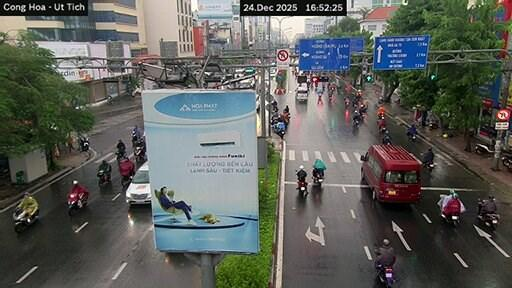motorbike: (13, 207, 38, 232), (67, 190, 87, 215), (376, 263, 394, 287), (477, 212, 499, 230), (477, 213, 499, 230), (475, 140, 495, 154), (441, 212, 459, 226), (97, 170, 111, 188), (134, 145, 146, 164), (79, 135, 90, 152), (296, 180, 307, 196), (312, 171, 324, 185), (115, 149, 126, 164), (121, 176, 133, 188), (501, 154, 511, 166), (422, 161, 433, 171), (382, 135, 391, 144), (408, 133, 416, 141), (353, 119, 359, 127), (329, 90, 333, 100), (345, 98, 349, 107), (318, 93, 322, 100)
